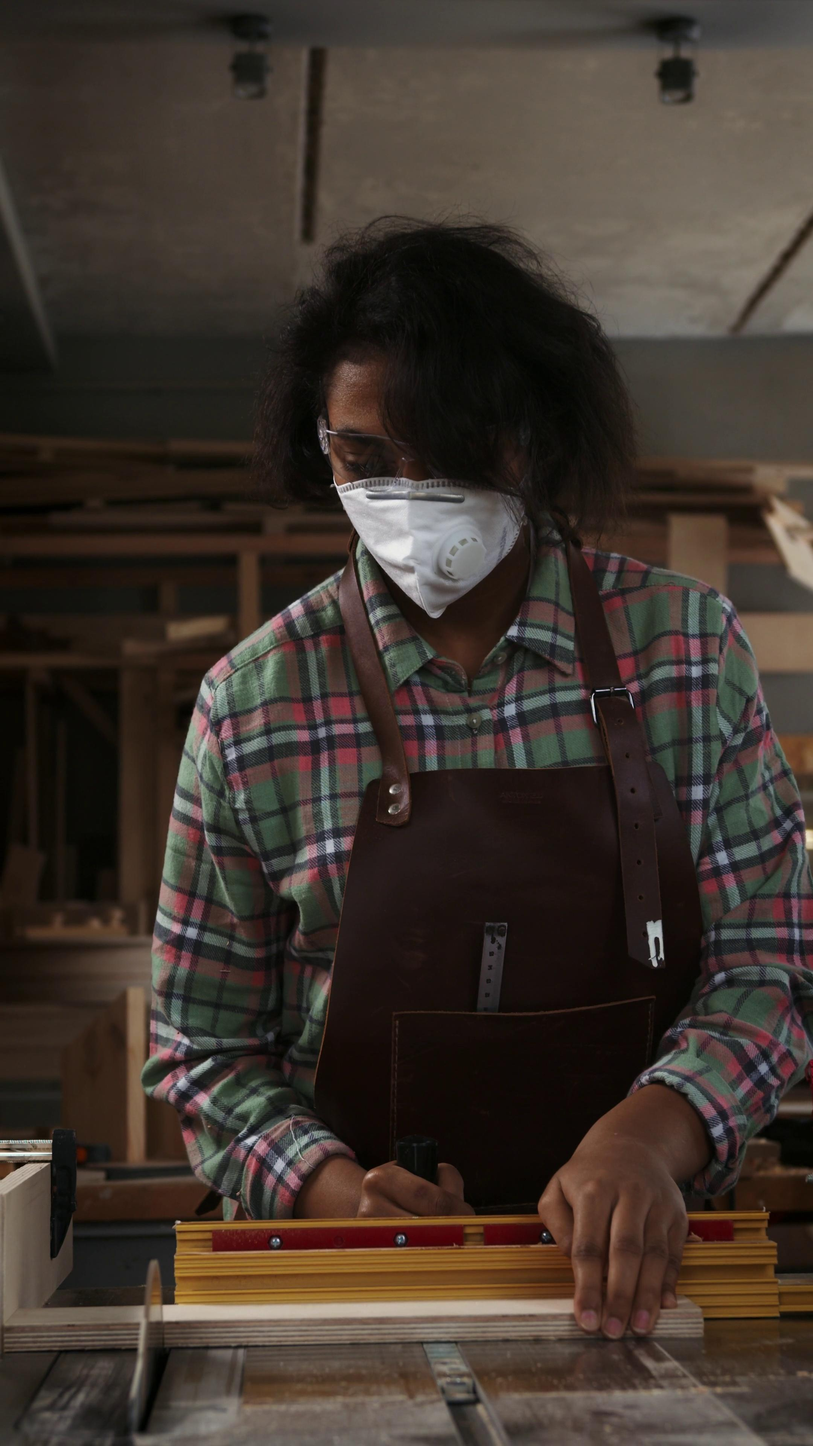mask: (335, 479, 525, 620)
person: (135, 209, 813, 1343)
